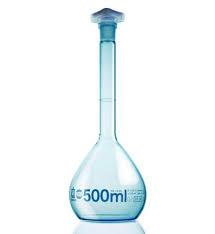Volumetric flask: (56, 7, 165, 221)
